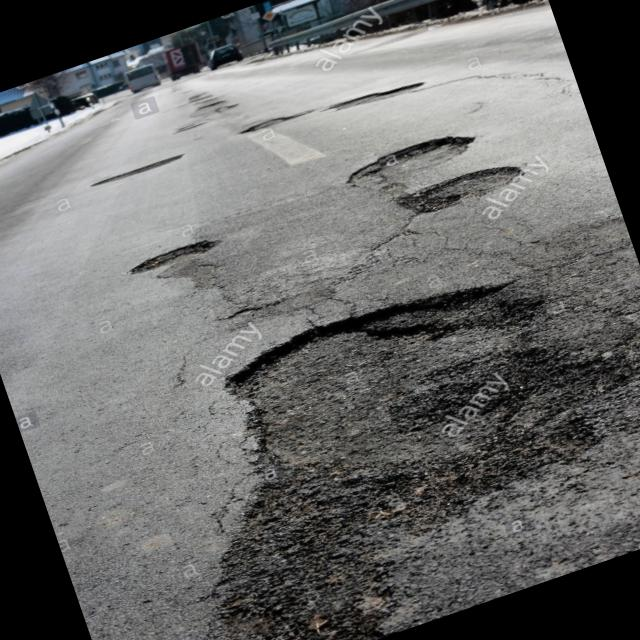Potholes: (99, 219, 640, 640), (378, 134, 572, 248), (339, 109, 496, 204), (117, 212, 246, 292), (328, 58, 456, 132), (157, 70, 253, 142), (91, 142, 204, 198), (240, 97, 318, 148)
